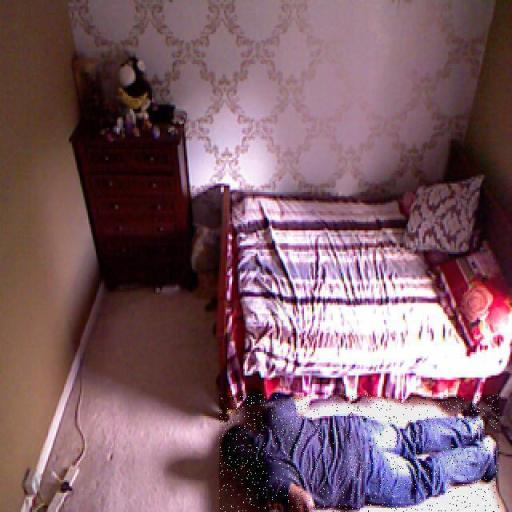Fall: (219, 394, 499, 512)
